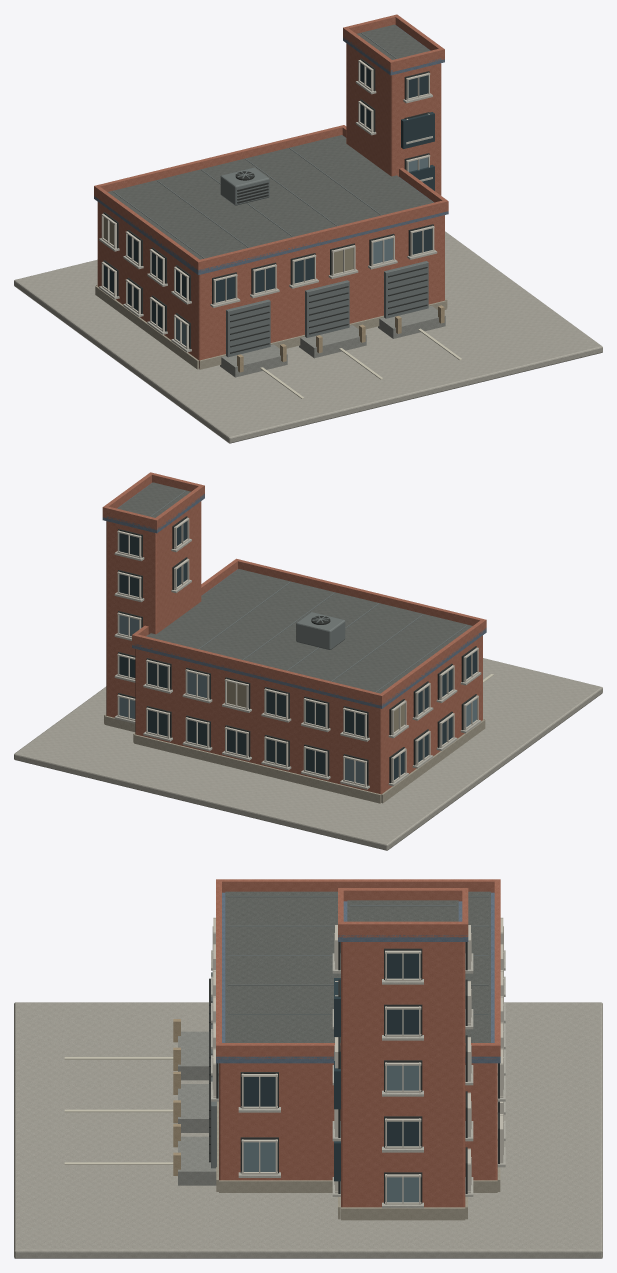
Rendered from EXP_FIRE_STATION.glb.
3 views of the same model, one above another, from view 1: azimuth 30°, elevation 25°; view 2: azimuth 150°, elevation 25°; view 3: azimuth 270°, elevation 25° (orthographic). The views are drawn at different scales.
Parts seen in each view (by area): view 1: EXP_FIRE_STATION_Visual; view 2: EXP_FIRE_STATION_Visual; view 3: EXP_FIRE_STATION_Visual.
Boxes of the visible parts, <box> form: EXP_FIRE_STATION_Visual: <box>14,14,602,443</box>; EXP_FIRE_STATION_Visual: <box>14,472,602,850</box>; EXP_FIRE_STATION_Visual: <box>14,879,602,1258</box>.
Size of what is drawn, in the model's own units: 5.92 by 3.43 by 5.92.
Materials: 15 (8 with a texture image).
